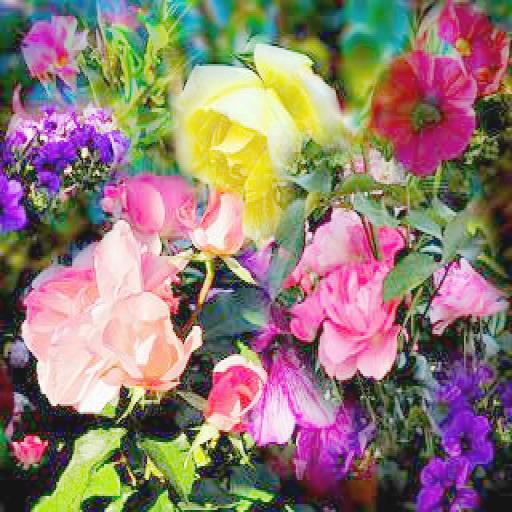rose: (178, 64, 291, 222), (290, 254, 404, 380), (366, 50, 477, 168), (90, 298, 190, 388), (184, 182, 246, 256)
